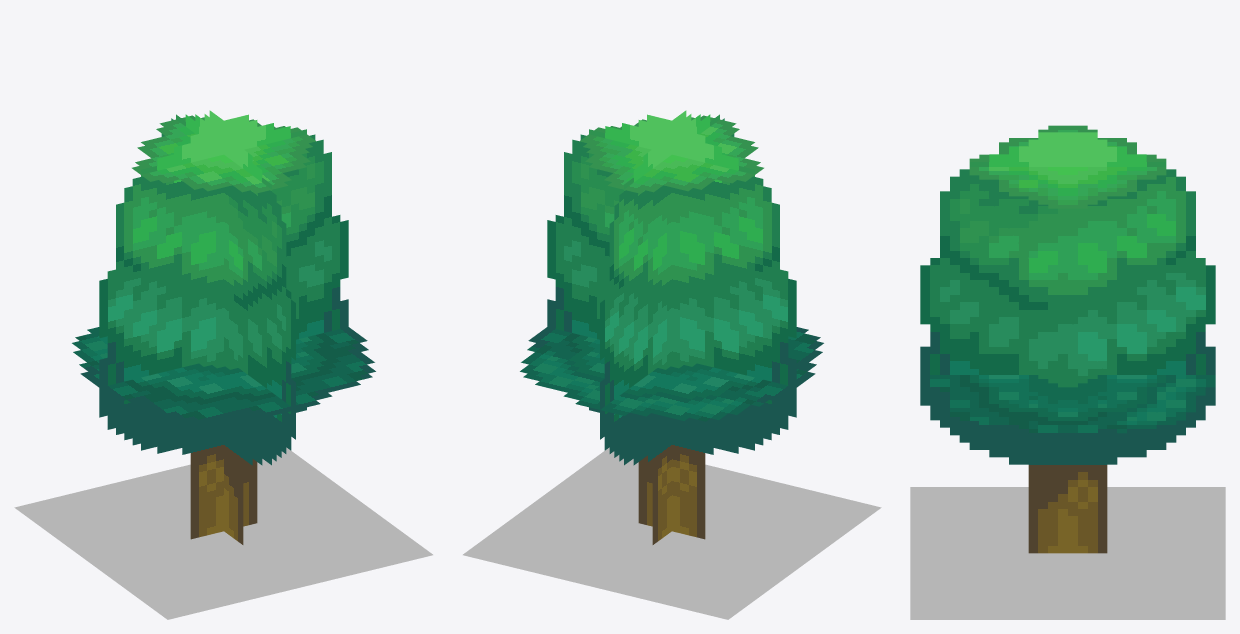
The model's file is ViridianTree.fbx.
The picture shows the model from 3 angles, left to right: view 1: azimuth 30°, elevation 25°; view 2: azimuth 150°, elevation 25°; view 3: azimuth 270°, elevation 25°; orthographic projection. The views are drawn at different scales.
Visible parts, largest first — view 1: polygon5; view 2: polygon5; view 3: polygon5.
Part boxes in pixels (x1,y1,x2,y2): polygon5: (14,110,432,619); polygon5: (463,110,881,619); polygon5: (910,125,1225,619).
Size of the model in its own units: 0.5 by 0.8281 by 0.5.
